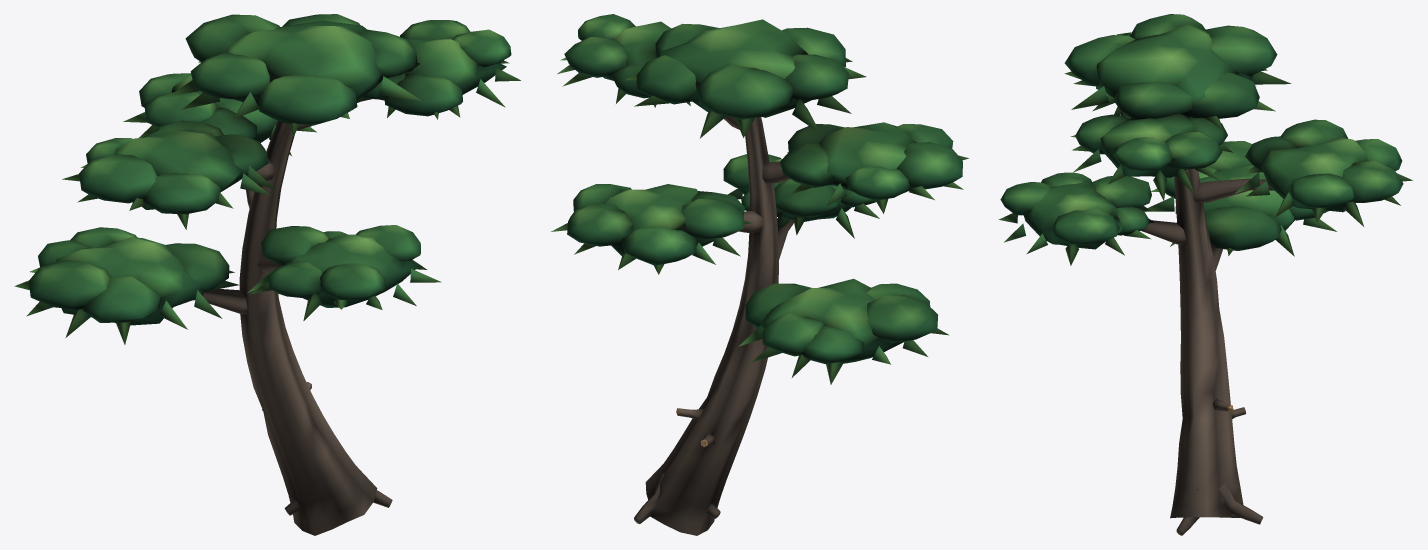
File: tree-pine-v3.glb
The picture shows the model from 3 angles, left to right: view 1: azimuth 30°, elevation 25°; view 2: azimuth 150°, elevation 25°; view 3: azimuth 270°, elevation 25°; orthographic projection. The views are drawn at different scales.
Parts seen in each view (by area): view 1: 1_leaves, 0_trunk; view 2: 1_leaves, 0_trunk; view 3: 1_leaves, 0_trunk.
Boxes of the visible parts, x1,y1,x2,y2 form: 1_leaves: (14,14,520,344); 0_trunk: (193,98,392,535); 1_leaves: (551,14,968,384); 0_trunk: (634,115,793,535); 1_leaves: (998,14,1412,265); 0_trunk: (1140,168,1273,535).
Bounding box in the file's own units: 5.95 × 6.65 × 5.35.
